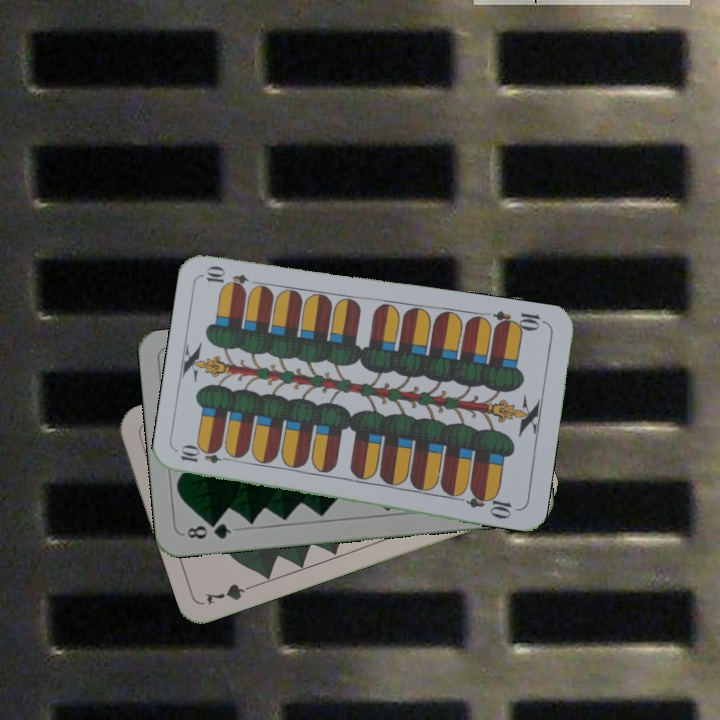E10: (490, 307, 549, 335), (176, 444, 236, 467)
G7: (201, 579, 260, 607)
G8: (180, 518, 234, 542)
